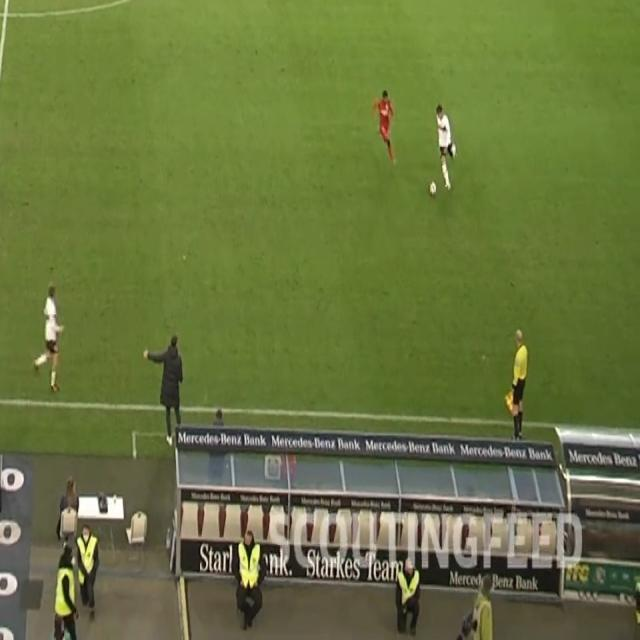ball: (427, 179, 438, 197)
